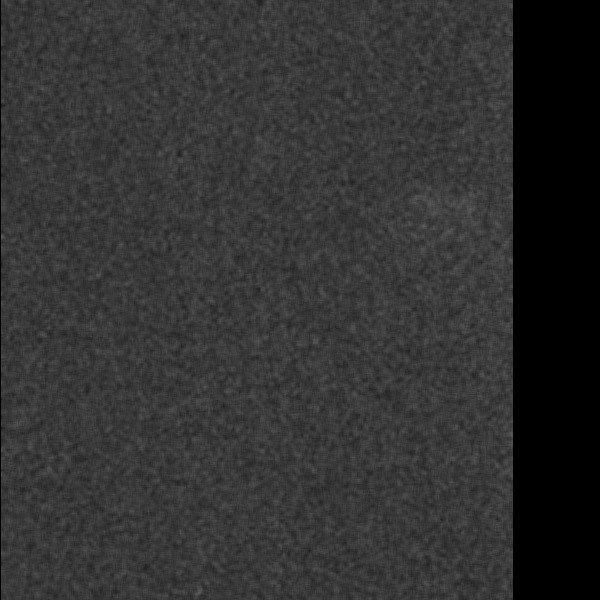spark: (263, 147, 303, 186)
